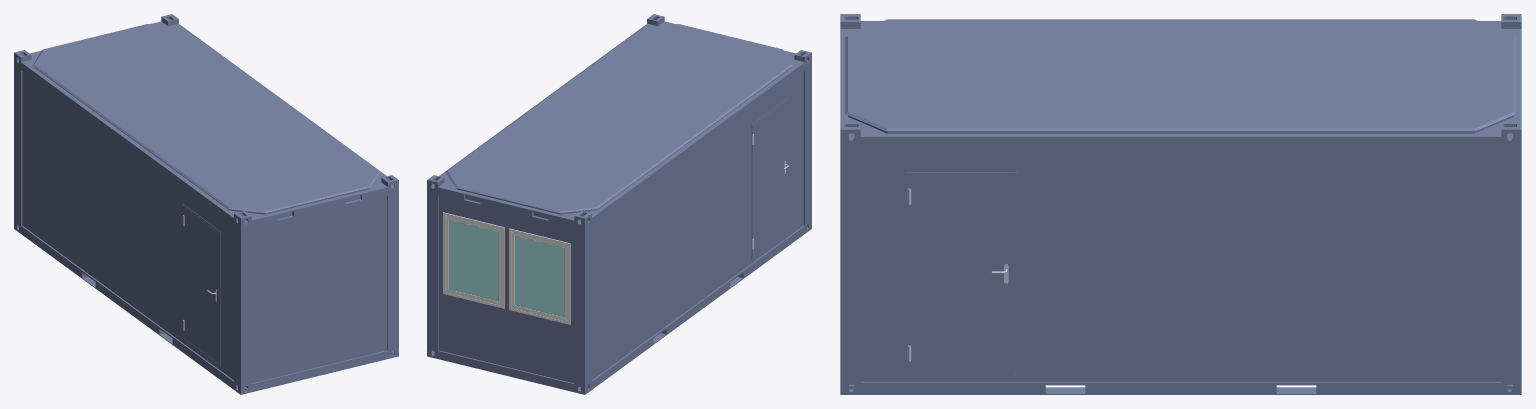
Rendered from Büro längsseitig HC 2600 BC 2430.obj.
The picture shows the model from 3 angles, left to right: view 1: azimuth 30°, elevation 25°; view 2: azimuth 150°, elevation 25°; view 3: azimuth 270°, elevation 25°; orthographic projection. The views are drawn at different scales.
Parts seen in each view (by area): view 1: |Test_buerolängs~0|Root|Test-Büro2~0-1|color, |Test_buerolängs~0|Root|Cont-Tür~0-3|color-2; view 2: |Test_buerolängs~0|Root|Test-Büro2~0-1|color, |Test_buerolängs~0|Root|Cont-Tür~0-3|color-2, |Test_buerolängs~0|Root|Cont-Fenster~0-1|color-4, |Test_buerolängs~0|Root|Cont-Fenster~0-3|color-4, |Test_buerolängs~0|Root|Cont-Fenster~0-1|color-5, |Test_buerolängs~0|Root|Cont-Fenster~0-3|color-5; view 3: |Test_buerolängs~0|Root|Test-Büro2~0-1|color, |Test_buerolängs~0|Root|Cont-Tür~0-2|color-2.
Boxes of the visible parts, x1,y1,x2,y2 form: |Test_buerolängs~0|Root|Test-Büro2~0-1|color: (14,14,398,394); |Test_buerolängs~0|Root|Cont-Tür~0-3|color-2: (183,204,220,367); |Test_buerolängs~0|Root|Test-Büro2~0-1|color: (427,14,811,394); |Test_buerolängs~0|Root|Cont-Tür~0-3|color-2: (751,97,788,260); |Test_buerolängs~0|Root|Cont-Fenster~0-1|color-4: (449,220,498,300); |Test_buerolängs~0|Root|Cont-Fenster~0-3|color-4: (515,236,564,317); |Test_buerolängs~0|Root|Cont-Fenster~0-1|color-5: (443,212,504,308); |Test_buerolängs~0|Root|Cont-Fenster~0-3|color-5: (509,228,570,324); |Test_buerolängs~0|Root|Test-Büro2~0-1|color: (840,14,1521,394); |Test_buerolängs~0|Root|Cont-Tür~0-2|color-2: (905,172,1017,376).
Bounding box in the file's own units: 2.54 × 2.6 × 6.05.
